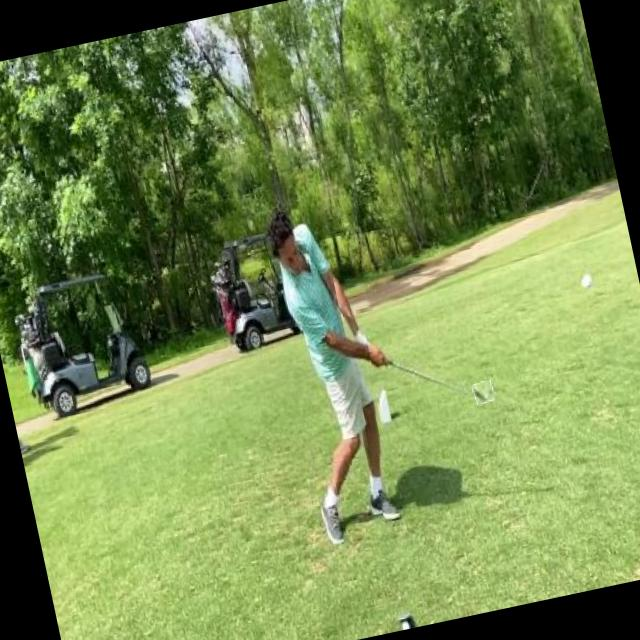club head: (472, 380, 494, 404)
